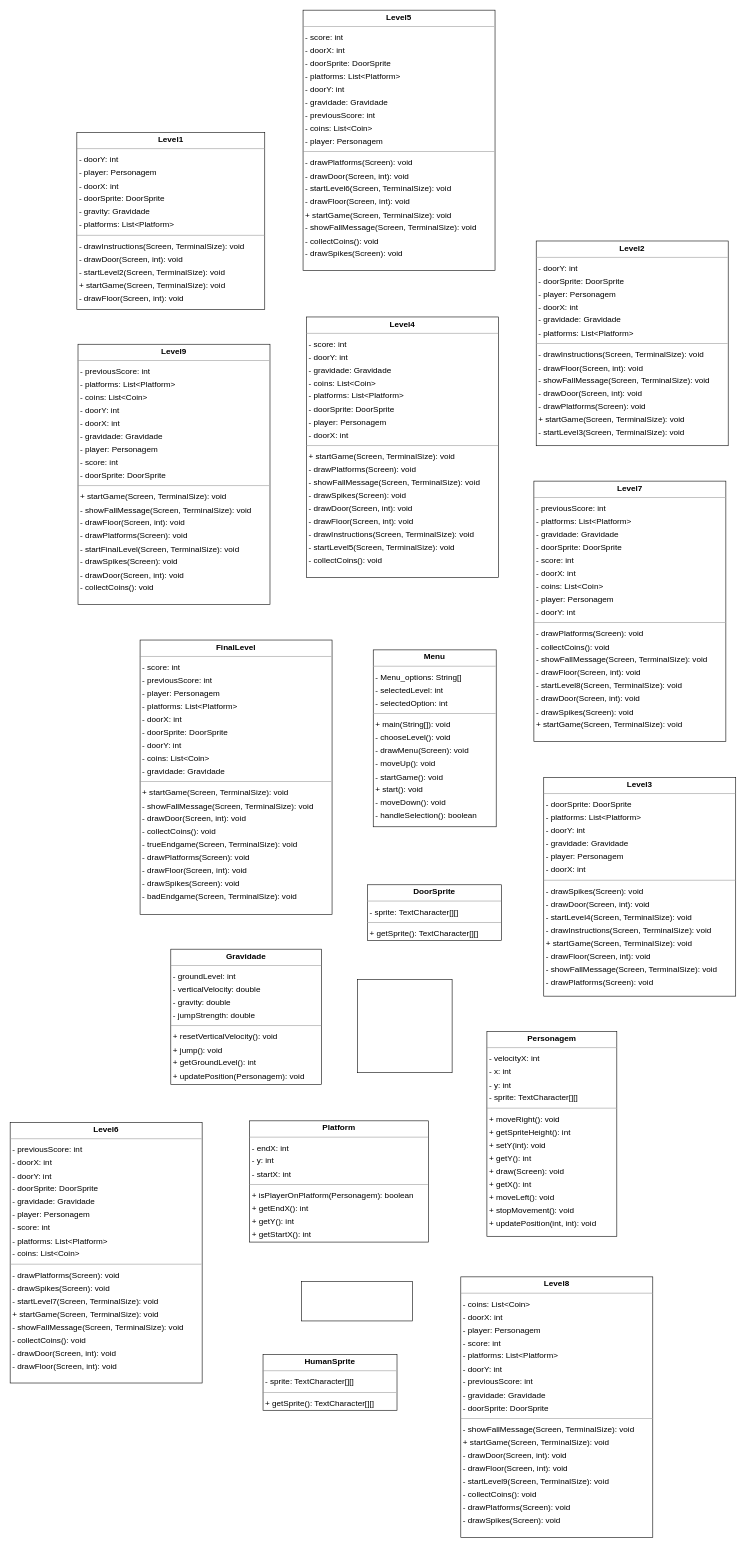
Image size: 746x1547. Some labels were removed from this diagram. The shapes that lost their labels are listed below. From the top down, each one's box as (x1, y1, x2, y2) in pixels, then its label:
(357, 979, 452, 1073): Coin - x: int - y: int + getY(): int + draw(Screen): void + getX(): int
(301, 1281, 413, 1321): SoundPlayer + playSound(String): void
